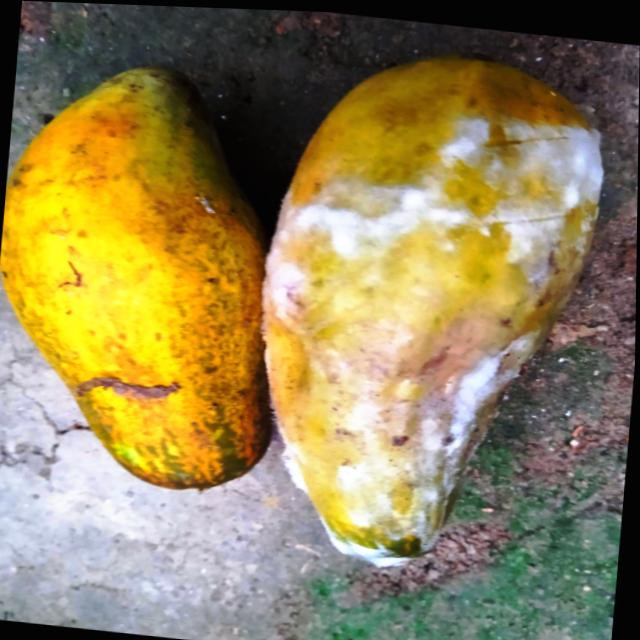Pythium-Fruit-Rot: (243, 91, 617, 595)
